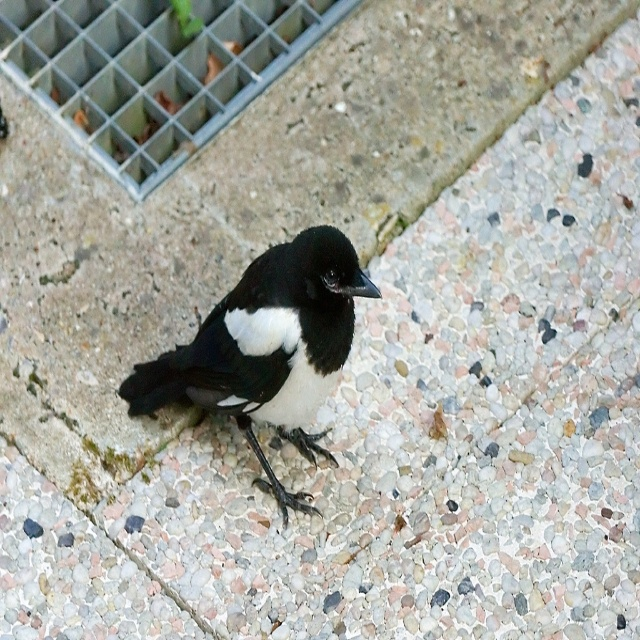Magpie: (118, 224, 383, 532)
